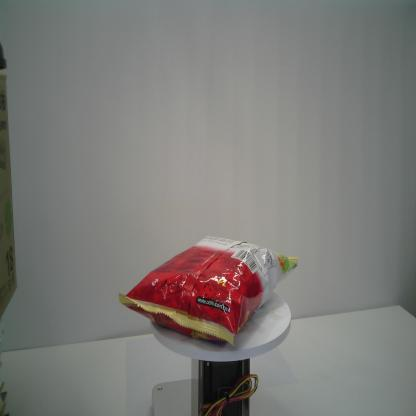Puffed Food: (118, 236, 300, 348)
